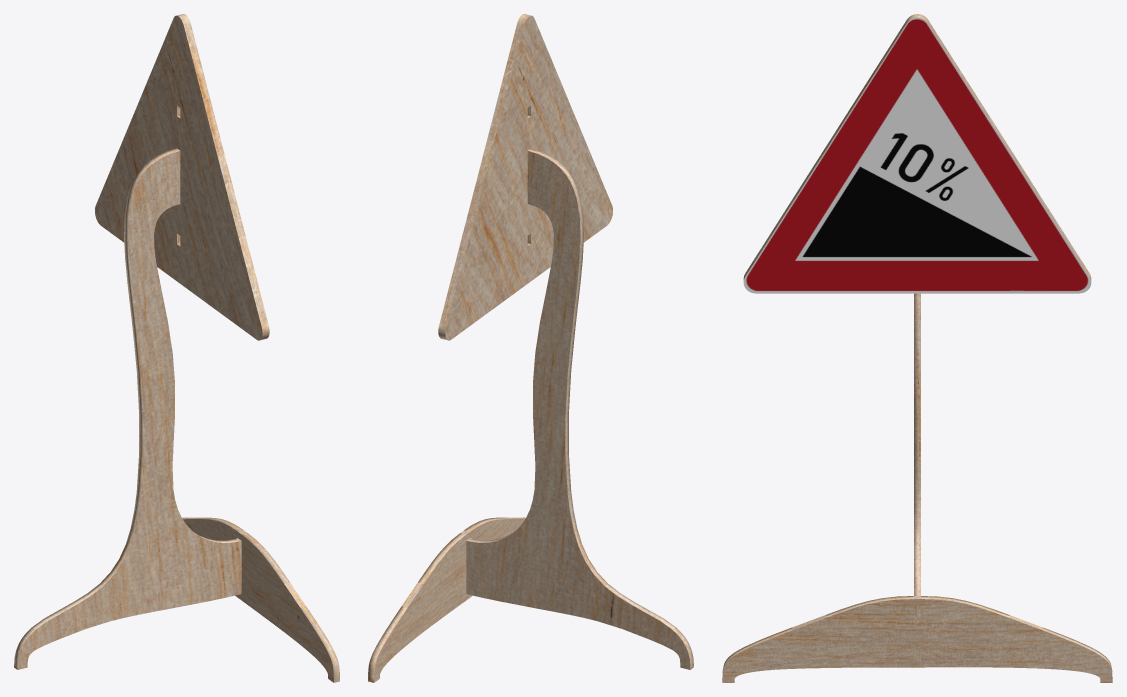
Rendered from Steigung_Ende.dae.
3 views of the same model, side by side, from view 1: azimuth 30°, elevation 25°; view 2: azimuth 150°, elevation 25°; view 3: azimuth 270°, elevation 25° (orthographic). The views are drawn at different scales.
Visible parts, largest first — view 1: Body1, Body1_2_001, Body1_1; view 2: Body1, Body1_2_001, Body1_1; view 3: Body1_2_001, Body1_1, Body1.
Boxes of the visible parts, bbox=[...] form: Body1: bbox=[14, 148, 241, 669]; Body1_2_001: bbox=[95, 14, 269, 340]; Body1_1: bbox=[182, 517, 339, 682]; Body1: bbox=[466, 148, 693, 669]; Body1_2_001: bbox=[438, 14, 612, 340]; Body1_1: bbox=[368, 517, 525, 682]; Body1_2_001: bbox=[743, 14, 1091, 293]; Body1_1: bbox=[722, 596, 1112, 682]; Body1: bbox=[914, 293, 920, 660].
Size of the model in its own units: 113 by 160 by 287.
Materials: 2 (2 with a texture image).
